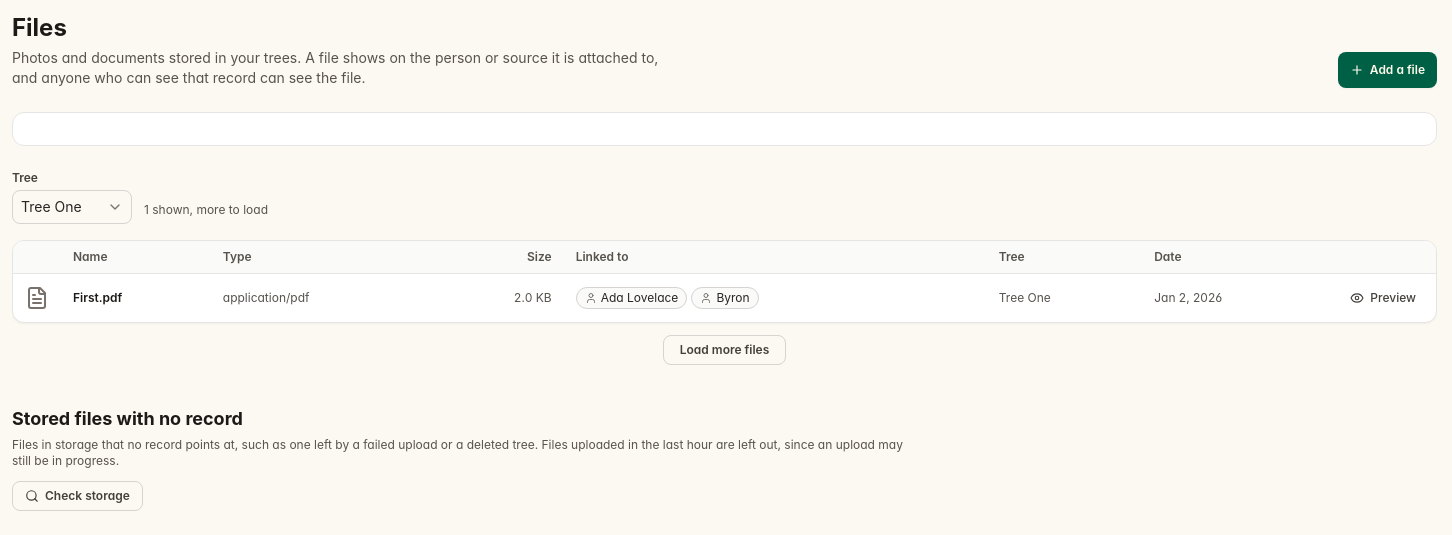
Test: Files page paging › offers more files while a cursor is left, and appends the next page
Click the button "Load more files" at (724, 350), box 663,335 -> 786,365
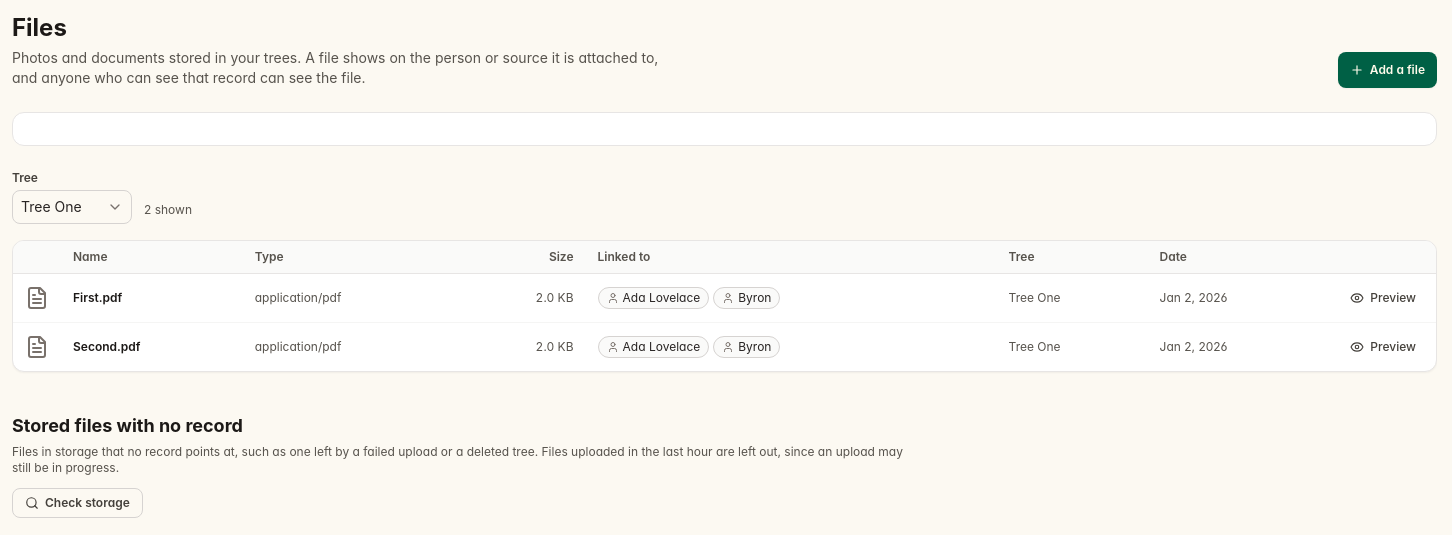
Check: the text "Second.pdf" is shown, box 61,322 -> 243,371
Check: the number of rows with test id "file-row" is 2, box 13,274 -> 1436,322; 13,322 -> 1436,371
